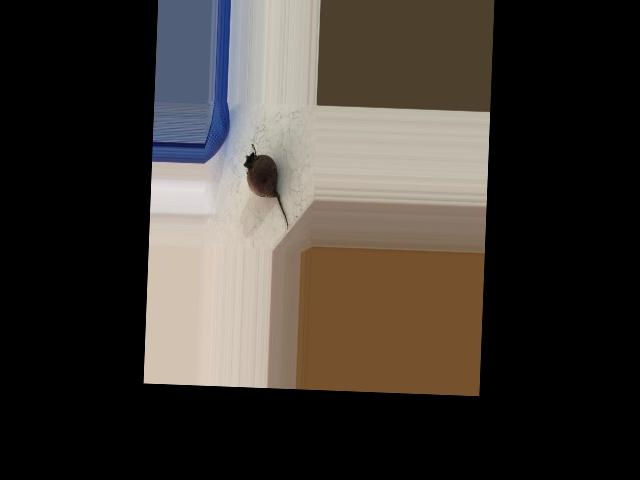beet: (241, 144, 292, 229)
